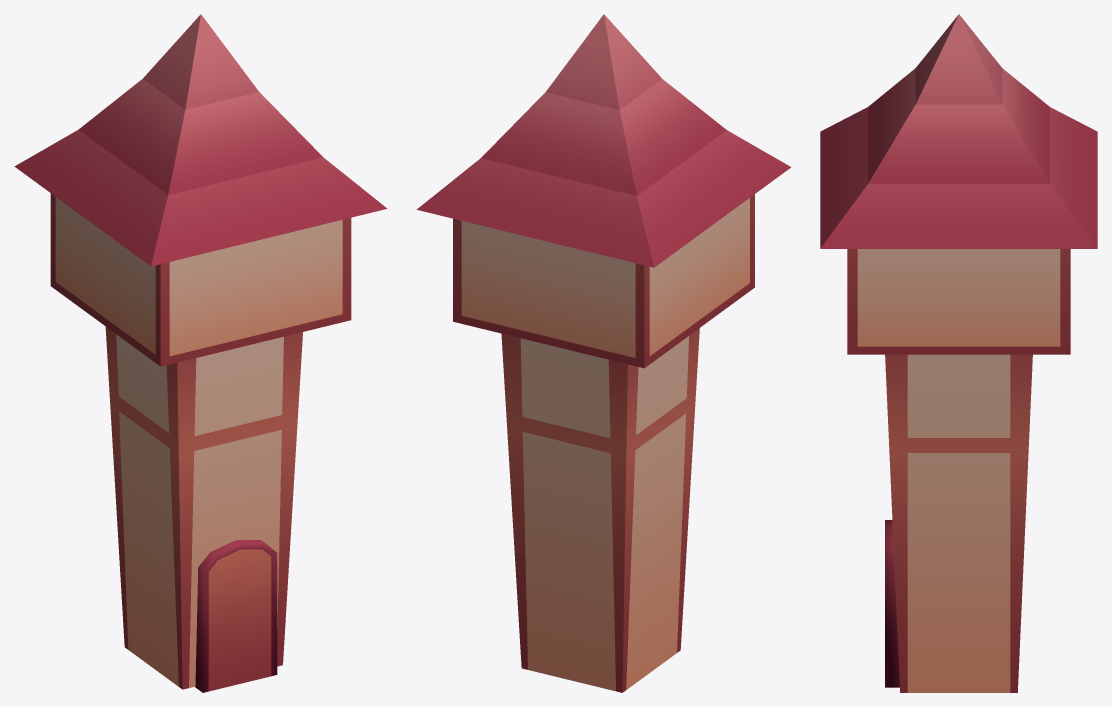
Rendered from Mdl_Tower.fbx.
The picture shows the model from 3 angles, left to right: view 1: azimuth 30°, elevation 25°; view 2: azimuth 150°, elevation 25°; view 3: azimuth 270°, elevation 25°; orthographic projection.
Parts seen in each view (by area): view 1: Tower; view 2: Tower; view 3: Tower.
Part boxes in pixels (x1,y1,x2,y2): Tower: (14, 14, 387, 692); Tower: (416, 14, 791, 692); Tower: (820, 14, 1097, 692).
Size of the model in its own units: 353 by 917 by 353.
